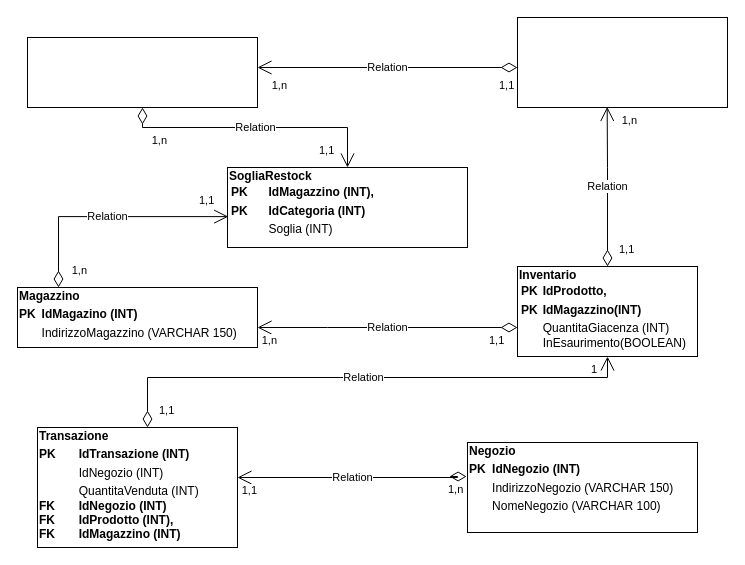
Some shapes in this 745 by 565 pixel diagram are drawn without their labels. Each missing label, with the centre of its shape:
Categoria PK IdCategria (INT) NomeCategoria (VARCHAR 100): pixel 142 72
Prodotto PK IdProdotto (INT) NomeProdotto (VARCHAR 150) FK IdCategoria (INT): pixel 622 62
